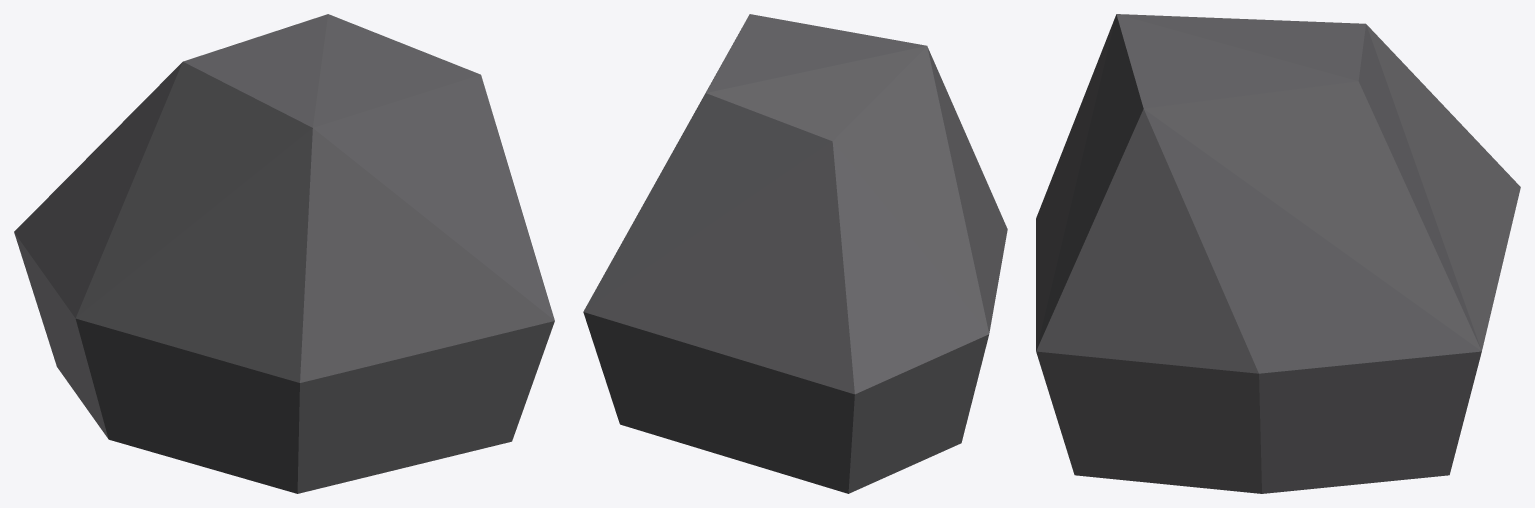
The model's file is SM_Env_SmallRock_01.glb.
3 views of the same model, side by side, from view 1: azimuth 30°, elevation 25°; view 2: azimuth 150°, elevation 25°; view 3: azimuth 270°, elevation 25° (orthographic). The views are drawn at different scales.
Visible parts, largest first — view 1: SM_Env_SmallRock_01_part00; view 2: SM_Env_SmallRock_01_part00; view 3: SM_Env_SmallRock_01_part00.
Part boxes in pixels (x1,y1,x2,y2): SM_Env_SmallRock_01_part00: (14, 14, 554, 493); SM_Env_SmallRock_01_part00: (583, 14, 1007, 493); SM_Env_SmallRock_01_part00: (1036, 14, 1520, 493).
Bounding box in the file's own units: 0.3177 × 0.2608 × 0.3118.
Materials: 1 (1 with a texture image).
